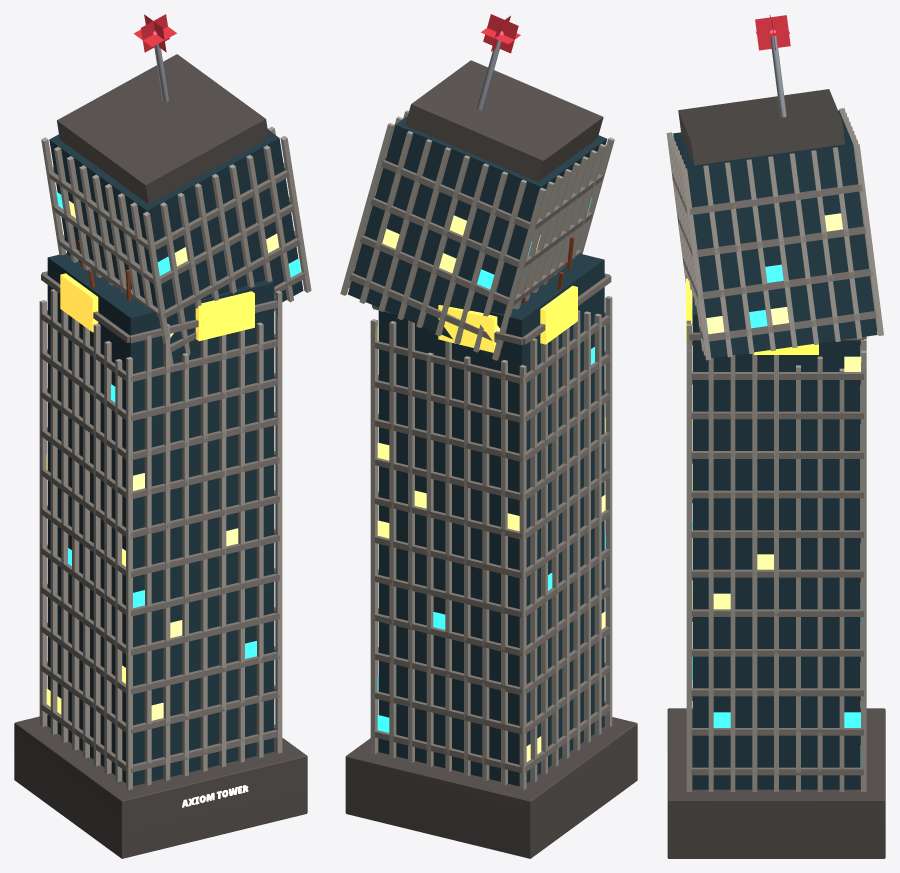
Rendered from city_skyscraper_broken.glb.
3 renders of one model, left to right at view 1: azimuth 30°, elevation 25°; view 2: azimuth 150°, elevation 25°; view 3: azimuth 270°, elevation 25°, orthographic.
Visible parts, largest first — view 1: Skyscraper; view 2: Skyscraper; view 3: Skyscraper.
Part boxes in pixels (x1,y1,x2,y2): Skyscraper: [14, 14, 311, 858]; Skyscraper: [340, 14, 637, 858]; Skyscraper: [666, 15, 885, 858].
Bounding box in the file's own units: 22.41 × 80.34 × 20.11.
